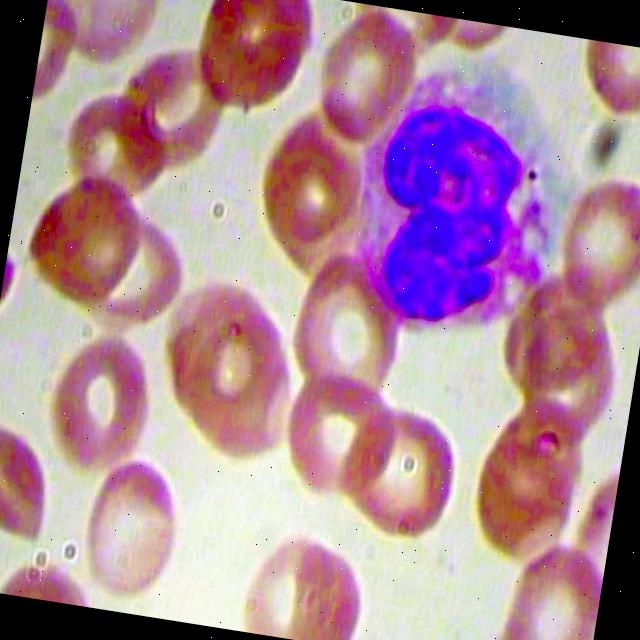RBC: (279, 245, 432, 419), (316, 376, 468, 550), (161, 303, 311, 475), (18, 163, 150, 307), (308, 0, 430, 153), (40, 322, 164, 471), (70, 454, 192, 602), (179, 0, 319, 128), (537, 164, 640, 325), (491, 532, 608, 640), (278, 529, 382, 640), (0, 401, 68, 547), (46, 0, 166, 74), (567, 37, 640, 129)
WBC: (326, 44, 589, 348)
